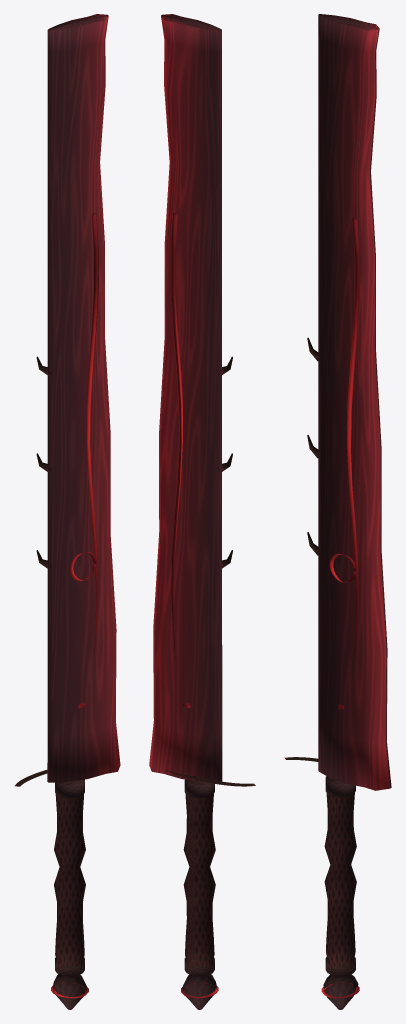
The model's file is sword_06_crimson_reaver.glb.
3 views of the same model, side by side, from view 1: azimuth 30°, elevation 25°; view 2: azimuth 150°, elevation 25°; view 3: azimuth 330°, elevation 25° (orthographic).
Parts seen in each view (by area): view 1: Blade_CrimsonReaverCleaver, Grip_ReaperBloodWrap, Emblem_ReaperMoon, Pommel_SickleHook, Ferrule_BloodIronReaver, Fins_HarvestThorns; view 2: Blade_CrimsonReaverCleaver, Grip_ReaperBloodWrap, Emblem_ReaperMoon, Pommel_SickleHook, Ferrule_BloodIronReaver, Guard_CrescentScythe, Fins_HarvestThorns; view 3: Blade_CrimsonReaverCleaver, Grip_ReaperBloodWrap, Emblem_ReaperMoon, Pommel_SickleHook, Ferrule_BloodIronReaver, Fins_HarvestThorns.
Boxes of the visible parts, <box> form: Blade_CrimsonReaverCleaver: <box>47,14,120,782</box>; Grip_ReaperBloodWrap: <box>54,784,85,970</box>; Emblem_ReaperMoon: <box>70,213,98,658</box>; Pommel_SickleHook: <box>51,974,88,1009</box>; Ferrule_BloodIronReaver: <box>55,779,84,976</box>; Fins_HarvestThorns: <box>36,356,52,568</box>; Blade_CrimsonReaverCleaver: <box>149,14,222,781</box>; Grip_ReaperBloodWrap: <box>183,783,215,970</box>; Emblem_ReaperMoon: <box>171,213,182,662</box>; Pommel_SickleHook: <box>181,974,218,1009</box>; Ferrule_BloodIronReaver: <box>184,779,214,976</box>; Guard_CrescentScythe: <box>164,769,255,786</box>; Fins_HarvestThorns: <box>217,356,232,568</box>; Blade_CrimsonReaverCleaver: <box>318,14,391,790</box>; Grip_ReaperBloodWrap: <box>324,776,356,968</box>; Emblem_ReaperMoon: <box>329,218,359,667</box>; Pommel_SickleHook: <box>321,974,359,1009</box>; Ferrule_BloodIronReaver: <box>325,776,355,976</box>; Fins_HarvestThorns: <box>307,337,318,555</box>.
Size of the model in its own units: 0.2924 by 2.6 by 0.1014.
1 material, 1 textured.
